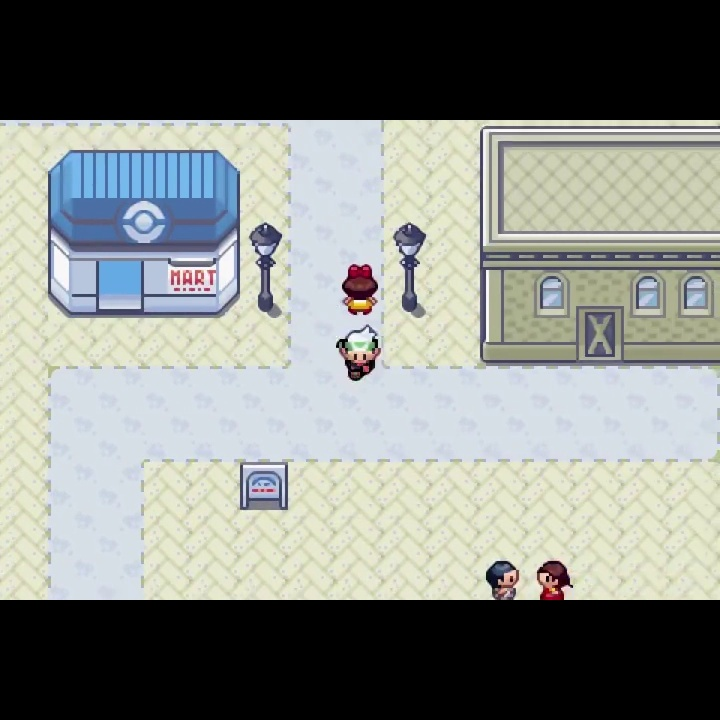house: (477, 123, 720, 366)
npc: (332, 324, 384, 385), (339, 262, 380, 320), (534, 559, 576, 600), (483, 559, 524, 600)
pokemart: (45, 147, 244, 320)
